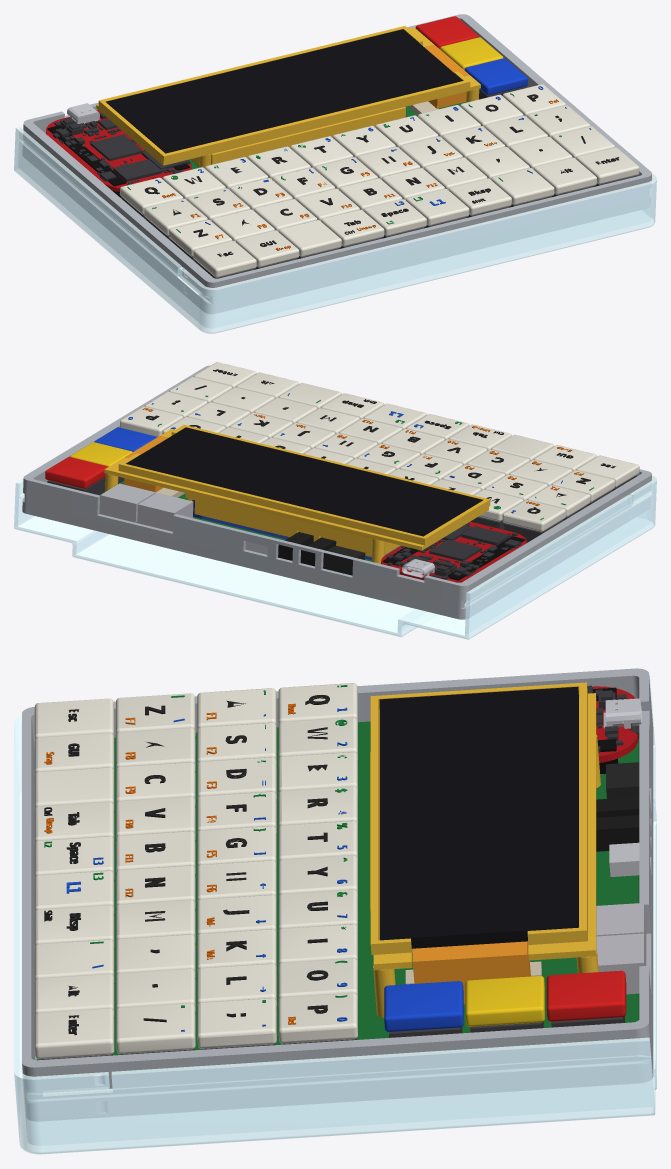
File: cradle_chrome.glb
3 views of the same model, one above another, from view 1: azimuth 30°, elevation 25°; view 2: azimuth 150°, elevation 25°; view 3: azimuth 270°, elevation 25° (orthographic). The views are drawn at different scales.
Visible parts, largest first — view 1: Internals, Lid, Tray; view 2: Internals, Lid, Tray; view 3: Internals, Lid, Tray.
Boxes of the visible parts, x1,y1,x2,y2 form: Internals: (46, 16, 639, 278); Lid: (14, 127, 656, 333); Tray: (23, 14, 651, 313); Internals: (45, 362, 639, 582); Lid: (14, 475, 656, 639); Tray: (22, 365, 651, 619); Internals: (34, 682, 646, 1060); Lid: (14, 672, 656, 1154); Tray: (22, 668, 653, 1120).
Size of the model in its own units: 0.1818 by 0.0365 by 0.1342.
